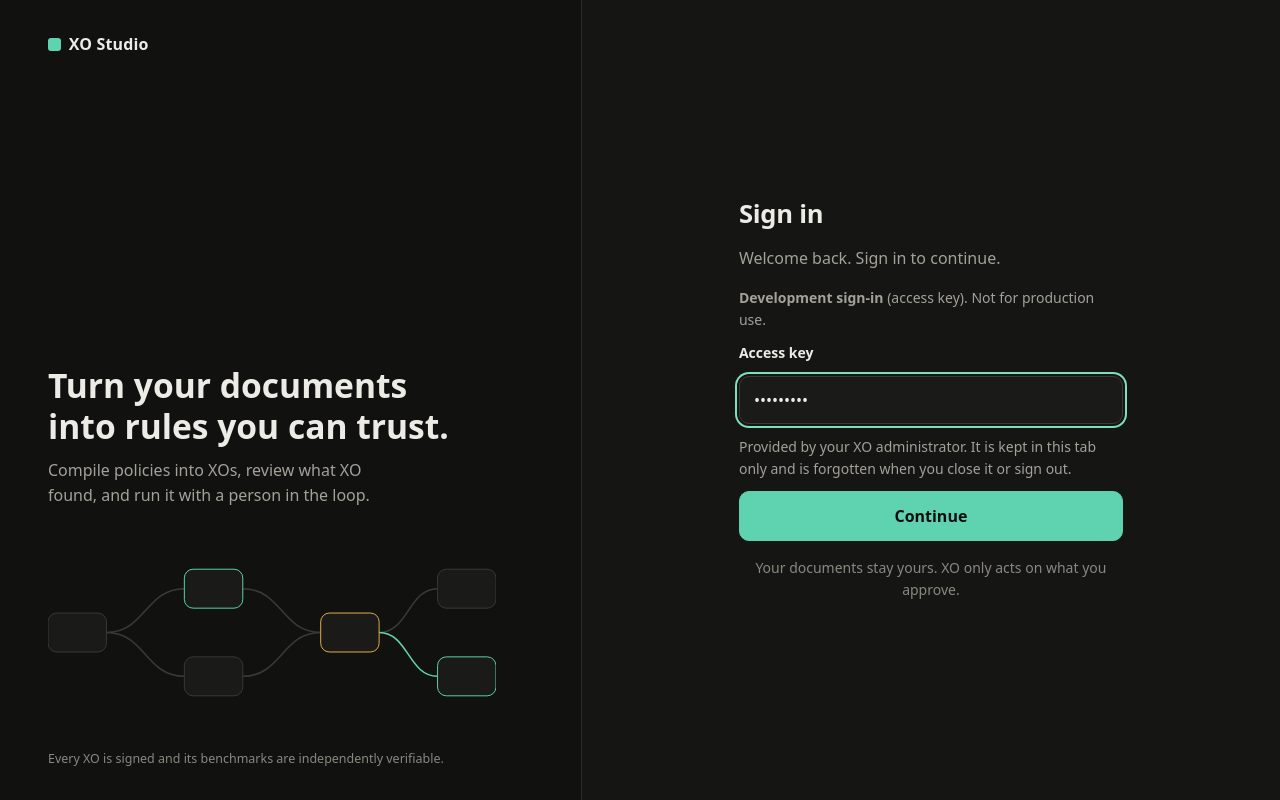
app frame › Workspaces lists the real workspaces, marks the current one, and can start a new one
The width and height of the screenshot is (1280, 800).
Earlier steps of the test are not shown.
Click the button "Continue": x=931, y=516 [739,491,1123,541]
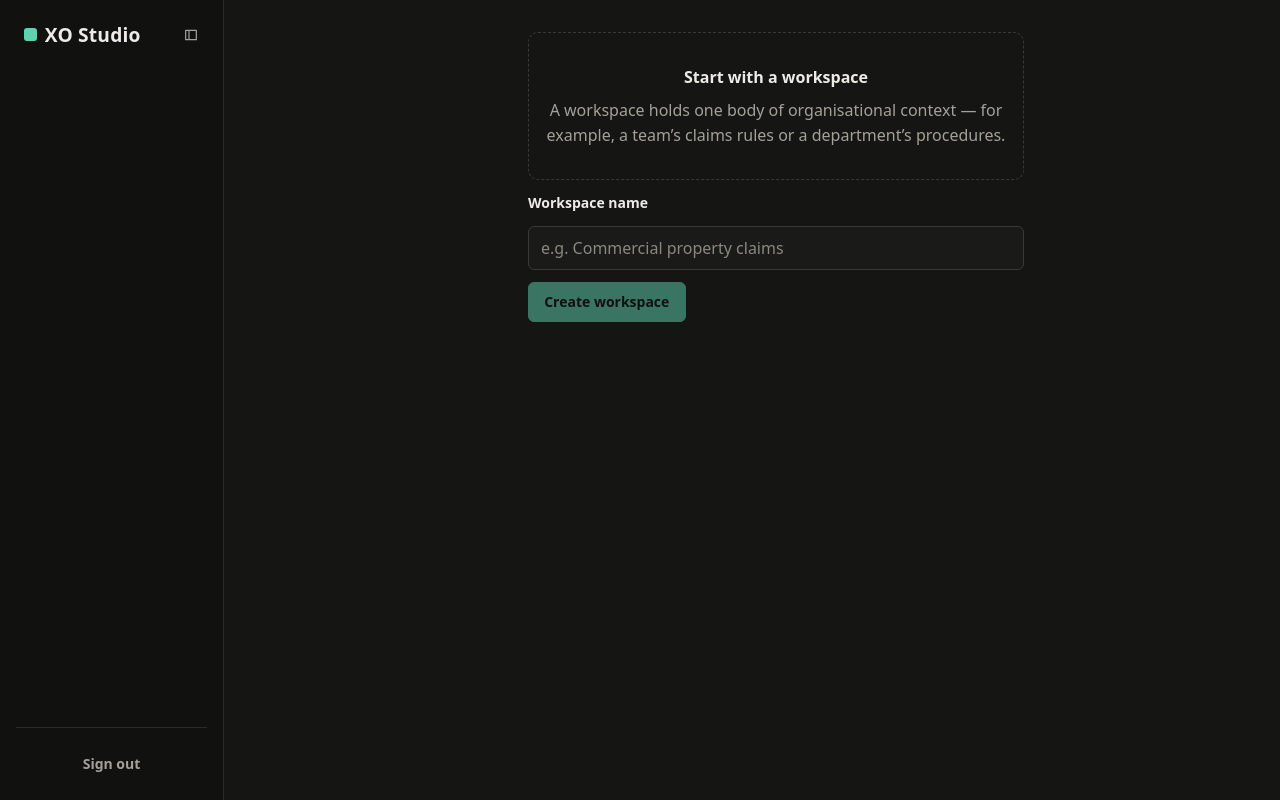
In the field labelled "Workspace name": x=776, y=248 [528,226,1024,270], type "Claims Ops"
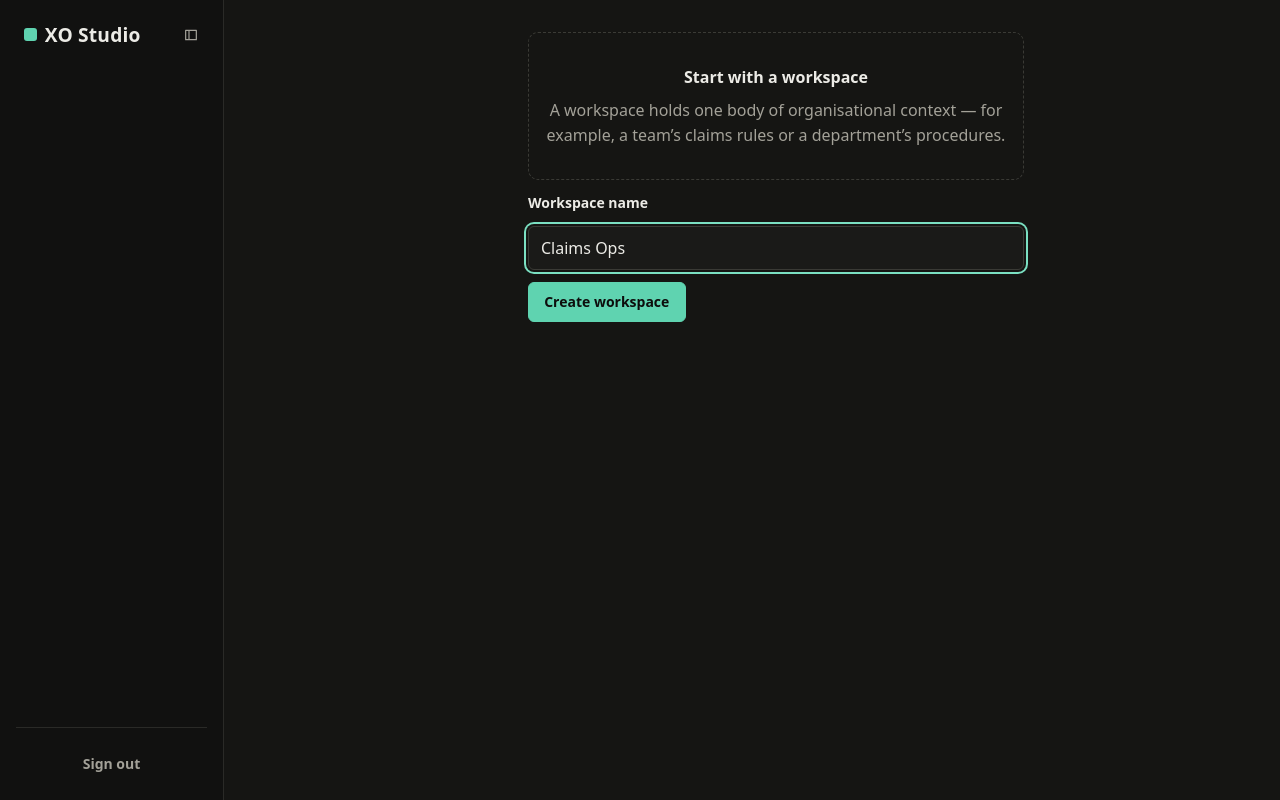
Click the button "Create workspace": x=607, y=302 [528,282,686,322]
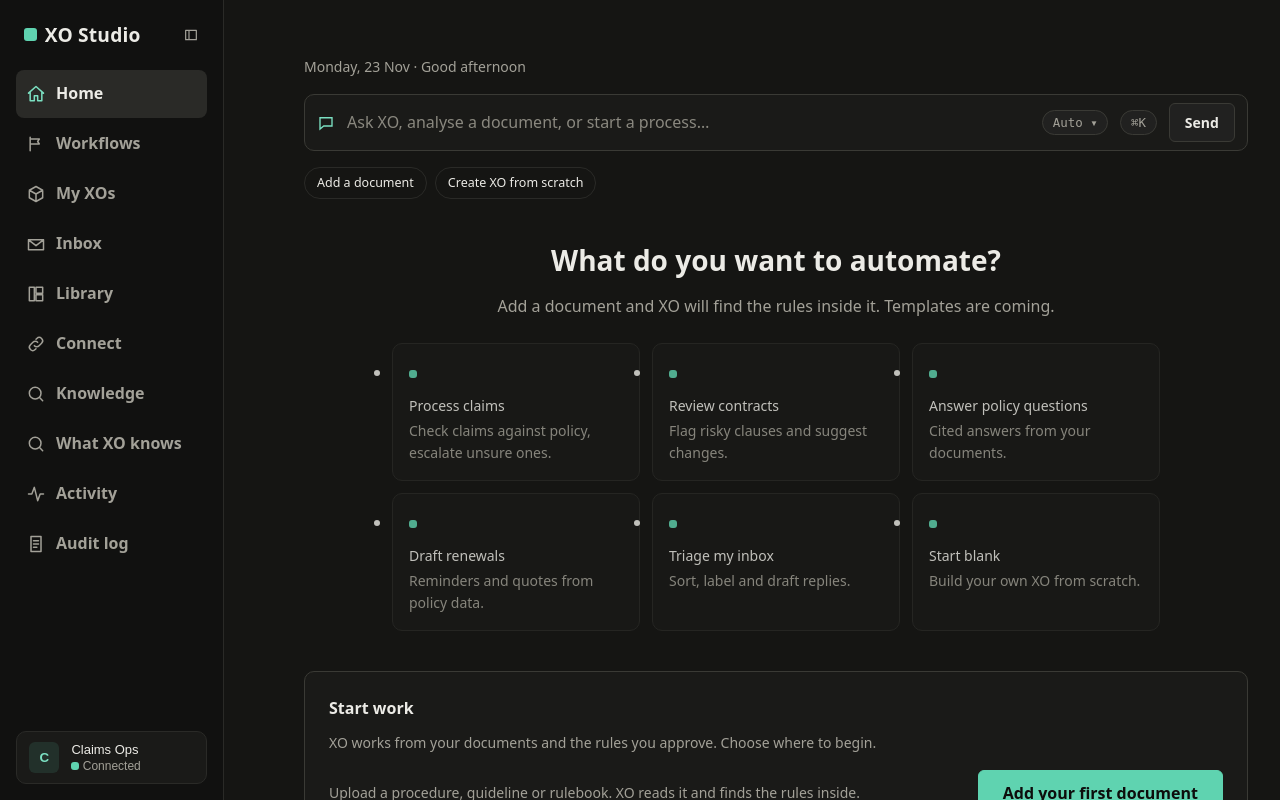
Click the button with aria-label "Workspace menu": x=112, y=758 [16,731,207,784]
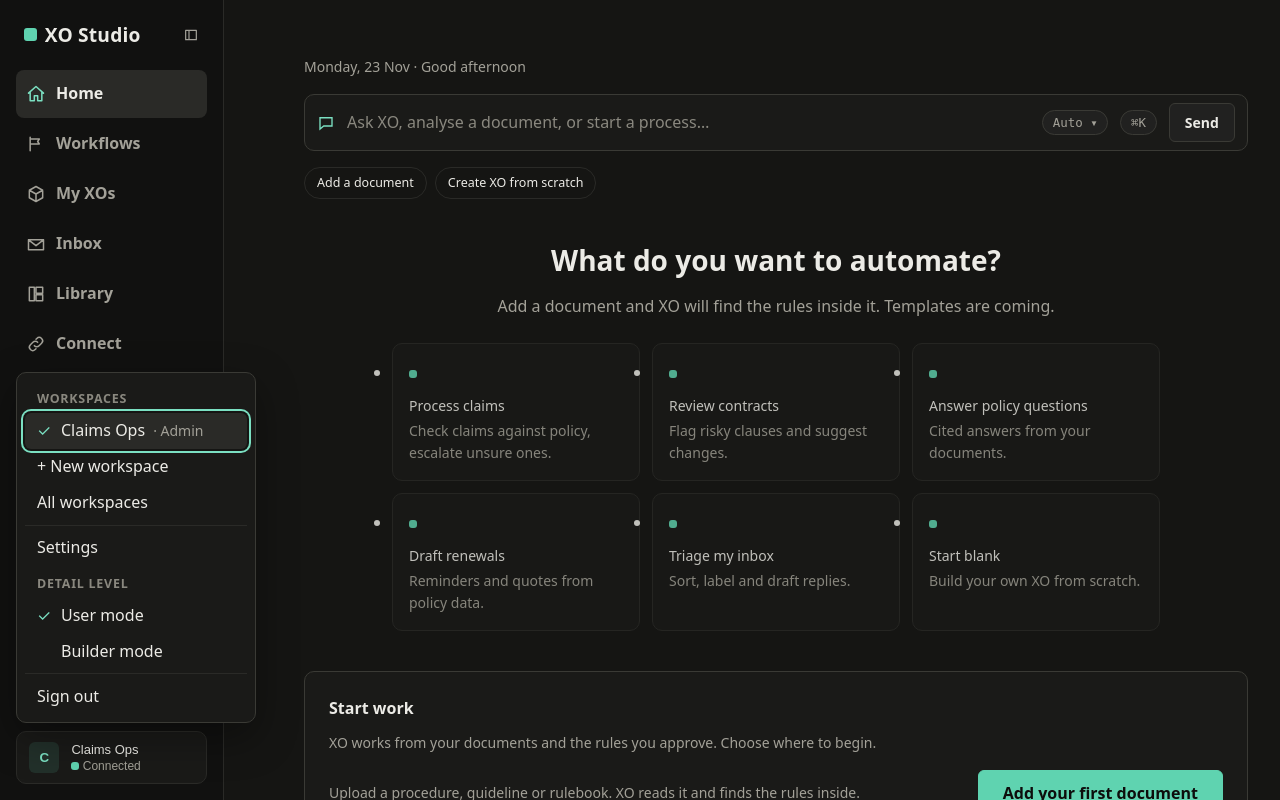
Click the menu item "All workspaces": x=136, y=503 [25,485,247,521]
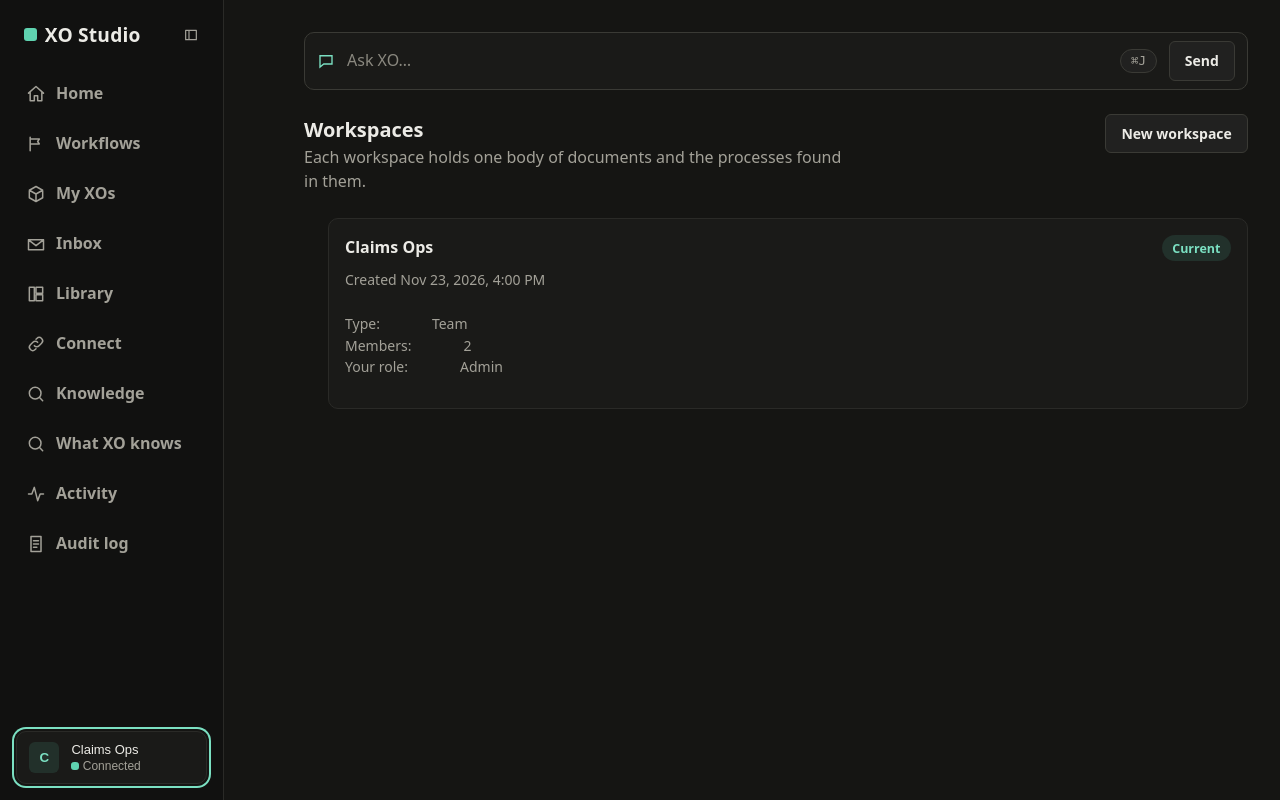
expect the heading "Workspaces" is shown: met, box [304,116,424,143]
expect the number of list items is 1: met, box [328,218,1248,409]
expect the text "Current" is shown: met, box [1162,235,1231,261]
Click the button "New workspace": x=1177, y=134 [1105,114,1248,153]
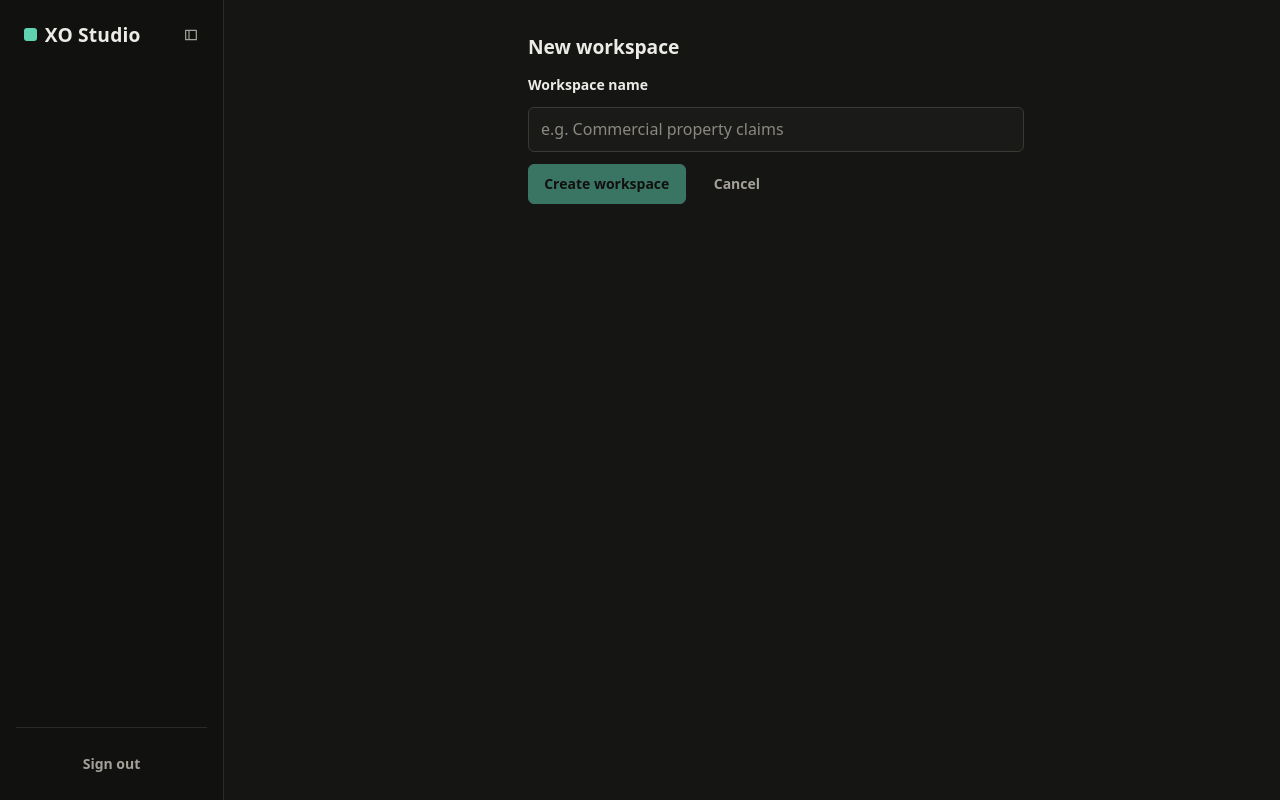
expect the field labelled "Workspace name" is shown: met, box [528,107,1024,152]
